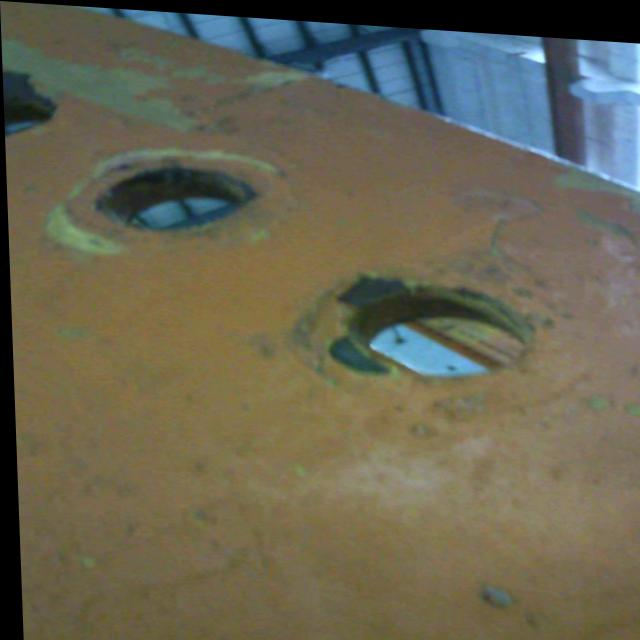Missing bolt: (338, 269, 531, 380), (88, 157, 254, 236), (3, 86, 61, 139)
